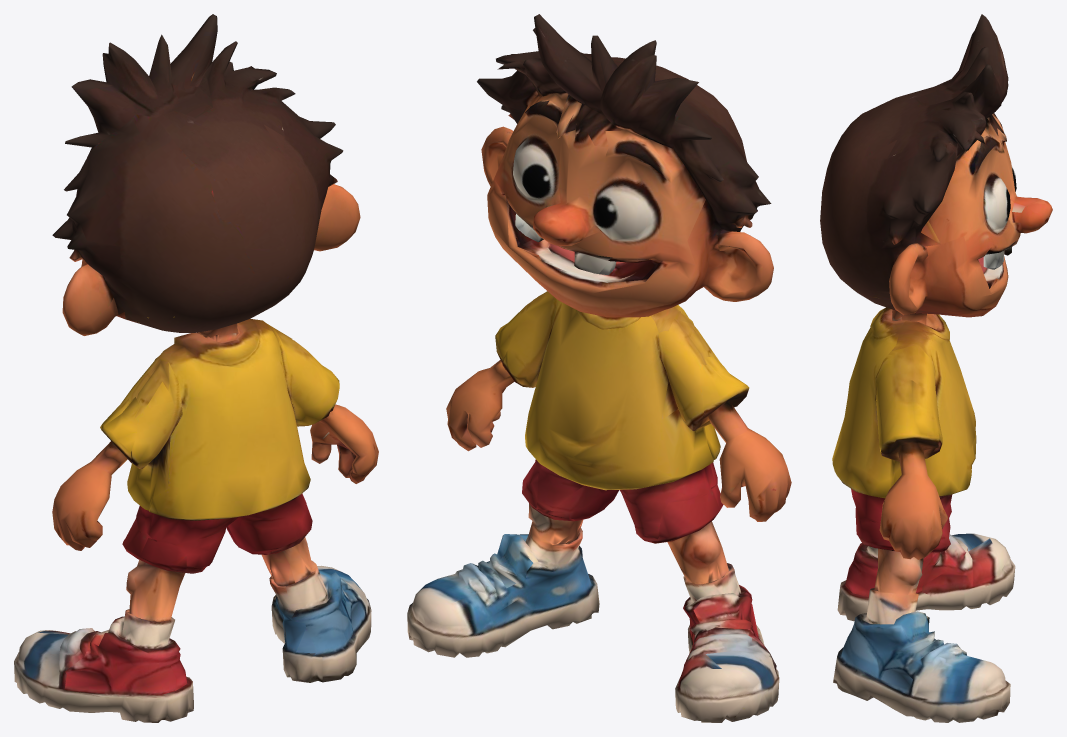
The model's file is nino.glb.
3 renders of one model, left to right at view 1: azimuth 30°, elevation 25°; view 2: azimuth 150°, elevation 25°; view 3: azimuth 270°, elevation 25°, orthographic. The views are drawn at different scales.
Visible parts, largest first — view 1: Cabeza, Torso, PiernaIzquierda, PiernaDerecha, BrazoIzquierdo, BrazoDerecho; view 2: Cabeza, Torso, PiernaDerecha, PiernaIzquierda, BrazoIzquierdo, BrazoDerecho; view 3: Cabeza, Torso, PiernaDerecha, BrazoDerecho, PiernaIzquierda.
Part boxes in pixels (box(x1,y1,x2,y2)): Cabeza: box(52, 14, 360, 337); Torso: box(122, 319, 332, 571); PiernaIzquierda: box(14, 519, 206, 722); PiernaDerecha: box(261, 505, 371, 682); BrazoIzquierdo: box(52, 395, 139, 550); BrazoDerecho: box(294, 340, 378, 483); Cabeza: box(477, 14, 773, 317); Torso: box(502, 291, 734, 539); PiernaDerecha: box(407, 462, 599, 657); PiernaIzquierda: box(636, 477, 779, 722); BrazoIzquierdo: box(699, 356, 791, 521); BrazoDerecho: box(446, 301, 532, 451); Cabeza: box(820, 14, 1052, 321); Torso: box(832, 307, 976, 542); PiernaDerecha: box(833, 518, 1010, 722); BrazoDerecho: box(879, 380, 947, 559); PiernaIzquierda: box(837, 533, 1015, 621).
Size of the model in its own units: 0.6844 by 1.22 by 0.4258.
1 material, 1 textured.
